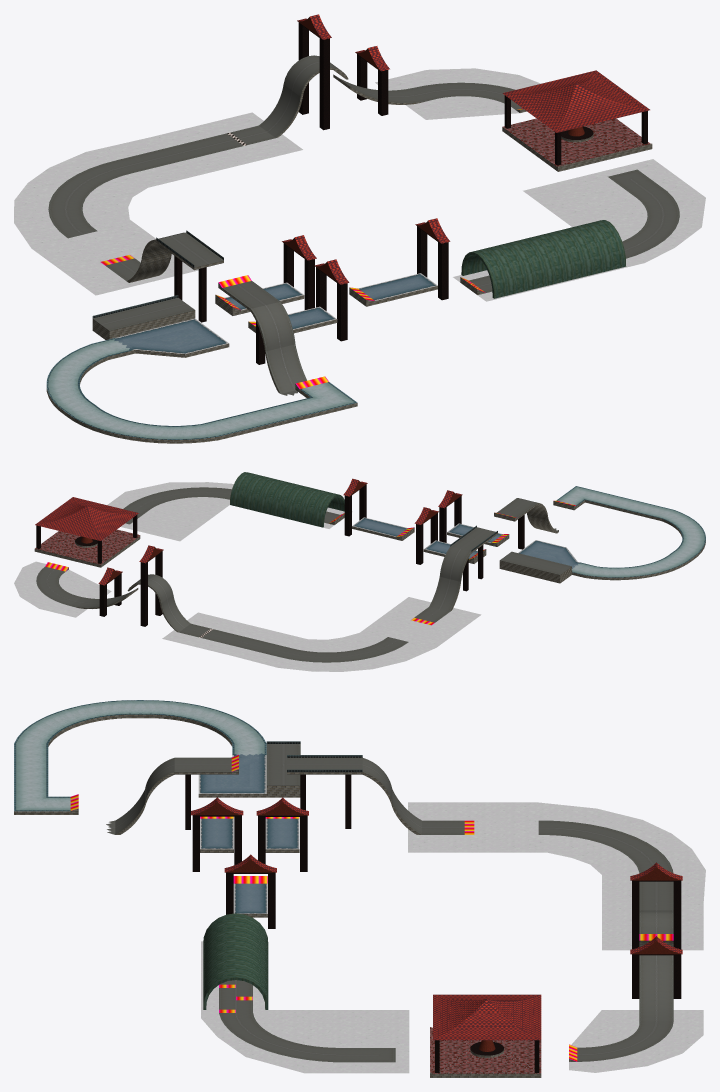
The picture shows the model from 3 angles, top to bottom: view 1: azimuth 30°, elevation 25°; view 2: azimuth 150°, elevation 25°; view 3: azimuth 270°, elevation 25°; orthographic projection. The views are drawn at different scales.
Parts seen in each view (by area): view 1: Race-SKP--Material3.005, Race-SKP--Material1.005, Race-SKP--Material9.003, Race-SKP--Material11.002, Race-SKP--Material4.004, Race-SKP--Material6.004, Race-SKP--Material7.004, Race-SKP--Material10.003, Race-SKP--Material5.004, Race-SKP--Material8.003, Race-SKP--Material13.002; view 2: Race-SKP--Material3.005, Race-SKP--Material1.005, Race-SKP--Material9.003, Race-SKP--Material11.002, Race-SKP--Material4.004, Race-SKP--Material6.004, Race-SKP--Material7.004, Race-SKP--Material10.003, Race-SKP--Material5.004, Race-SKP--Material8.003, Race-SKP--Material13.002; view 3: Race-SKP--Material3.005, Race-SKP--Material1.005, Race-SKP--Material11.002, Race-SKP--Material7.004, Race-SKP--Material9.003, Race-SKP--Material10.003, Race-SKP--Material4.004, Race-SKP--Material6.004, Race-SKP--Material5.004, Race-SKP--Material8.003, Race-SKP--Material13.002.
Part boxes in pixels (bbox=[...]): Race-SKP--Material3.005: bbox=[14, 68, 705, 301]; Race-SKP--Material1.005: bbox=[48, 55, 679, 395]; Race-SKP--Material9.003: bbox=[174, 22, 647, 364]; Race-SKP--Material11.002: bbox=[46, 338, 357, 439]; Race-SKP--Material4.004: bbox=[461, 220, 626, 298]; Race-SKP--Material6.004: bbox=[46, 68, 652, 443]; Race-SKP--Material7.004: bbox=[282, 14, 649, 284]; Race-SKP--Material10.003: bbox=[114, 273, 437, 354]; Race-SKP--Material5.004: bbox=[502, 118, 651, 166]; Race-SKP--Material8.003: bbox=[282, 17, 584, 283]; Race-SKP--Material13.002: bbox=[100, 108, 522, 388]; Race-SKP--Material3.005: bbox=[14, 482, 481, 671]; Race-SKP--Material1.005: bbox=[36, 487, 571, 662]; Race-SKP--Material9.003: bbox=[36, 484, 524, 626]; Race-SKP--Material11.002: bbox=[556, 486, 705, 577]; Race-SKP--Material4.004: bbox=[230, 472, 344, 527]; Race-SKP--Material6.004: bbox=[34, 500, 705, 632]; Race-SKP--Material7.004: bbox=[35, 478, 462, 585]; Race-SKP--Material10.003: bbox=[352, 517, 580, 570]; Race-SKP--Material5.004: bbox=[35, 529, 140, 564]; Race-SKP--Material8.003: bbox=[81, 480, 461, 584]; Race-SKP--Material13.002: bbox=[45, 500, 575, 625]; Race-SKP--Material3.005: bbox=[201, 802, 705, 1073]; Race-SKP--Material1.005: bbox=[106, 744, 673, 1062]; Race-SKP--Material11.002: bbox=[14, 700, 266, 811]; Race-SKP--Material7.004: bbox=[191, 797, 682, 1040]; Race-SKP--Material9.003: bbox=[185, 774, 681, 1072]; Race-SKP--Material10.003: bbox=[198, 753, 299, 913]; Race-SKP--Material4.004: bbox=[203, 913, 268, 1009]; Race-SKP--Material6.004: bbox=[14, 714, 673, 1077]; Race-SKP--Material5.004: bbox=[430, 1027, 541, 1073]; Race-SKP--Material8.003: bbox=[192, 802, 682, 1051]; Race-SKP--Material13.002: bbox=[70, 754, 673, 1061].
Size of what is drawn, in the model's own units: 94305 by 12920 by 77545.
14 materials, 14 textured.
